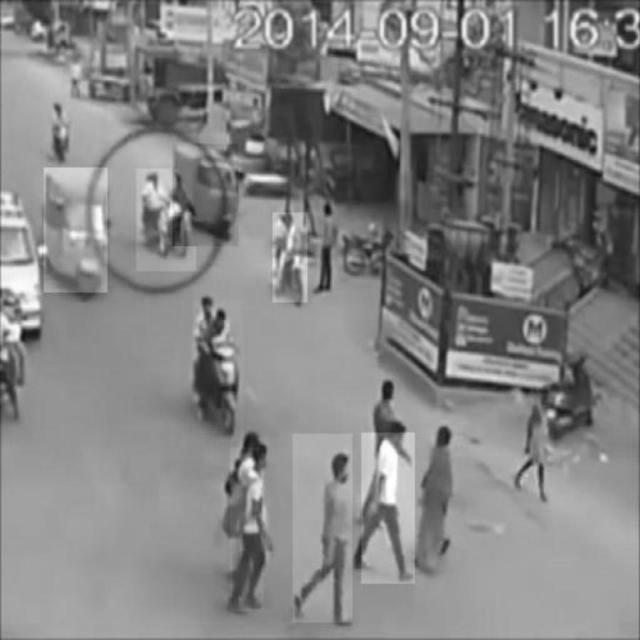accident: (137, 169, 197, 271)
person: (293, 434, 354, 622), (362, 433, 416, 584), (230, 447, 264, 611)
vehicle: (44, 168, 108, 292), (193, 299, 244, 433), (173, 144, 239, 246), (273, 213, 308, 303)
